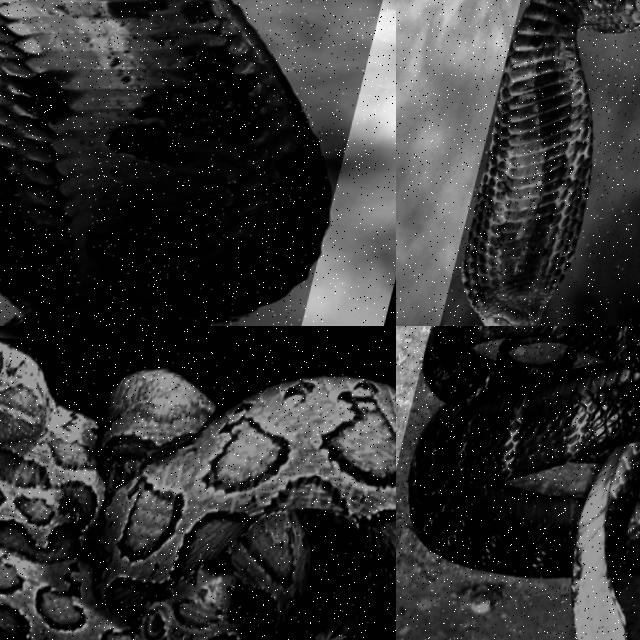Daboia siamensis: (0, 342, 395, 639)
Ophiophagus hannah: (0, 0, 330, 325), (409, 326, 639, 639), (462, 0, 639, 325)
snake: (0, 342, 395, 639), (0, 0, 330, 325), (409, 326, 639, 639), (462, 0, 639, 325)
